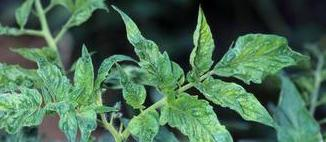Tomato leaf mosaic virus: (209, 27, 311, 90), (110, 3, 179, 92), (192, 70, 281, 133), (160, 91, 254, 142), (0, 87, 44, 142), (68, 41, 98, 106), (132, 114, 162, 142)
